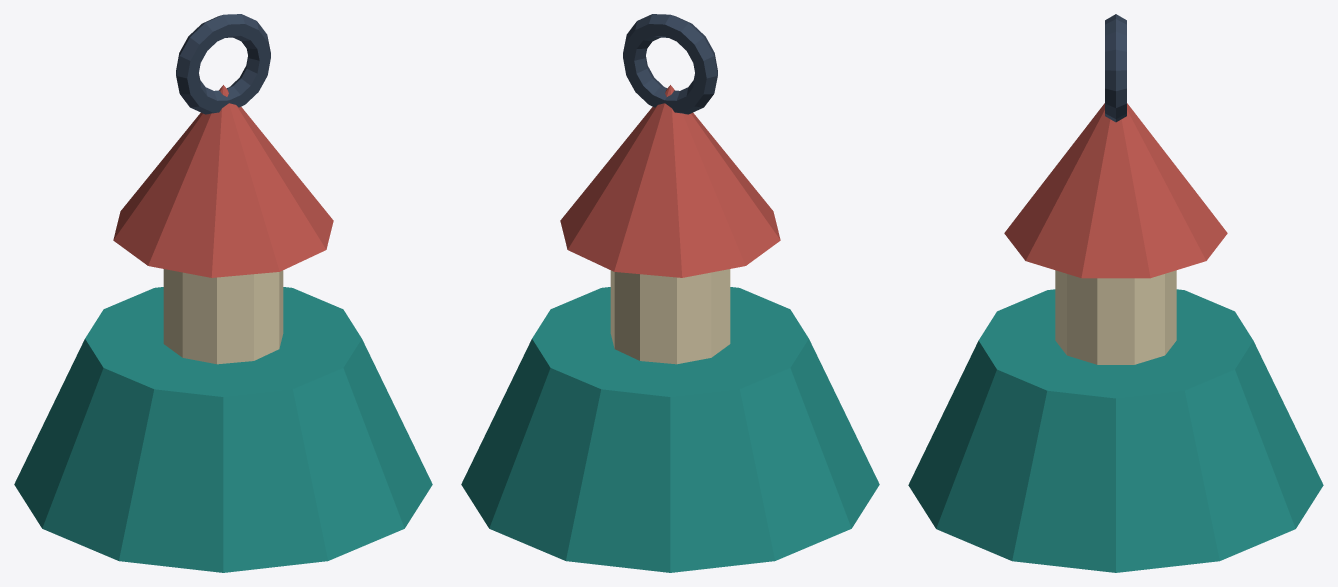
File: navigation_buoy.glb
The picture shows the model from 3 angles, left to right: view 1: azimuth 30°, elevation 25°; view 2: azimuth 150°, elevation 25°; view 3: azimuth 270°, elevation 25°; orthographic projection.
Parts seen in each view (by area): view 1: Buoy float, Marker cap, Buoy neck, Buoy eye; view 2: Buoy float, Marker cap, Buoy neck, Buoy eye; view 3: Buoy float, Marker cap, Buoy neck, Buoy eye.
Boxes of the visible parts, x1,y1,x2,y2 form: Buoy float: (14,287,432,572); Marker cap: (113,85,333,277); Buoy neck: (163,269,283,364); Buoy eye: (176,14,270,114); Buoy float: (461,287,879,572); Marker cap: (560,85,780,277); Buoy neck: (610,269,730,364); Buoy eye: (623,14,717,114); Buoy float: (908,289,1323,572); Marker cap: (1004,103,1227,278); Buoy neck: (1055,270,1176,364); Buoy eye: (1105,14,1126,122).
Size of the model in its own units: 1.3 by 1.61 by 1.3.
